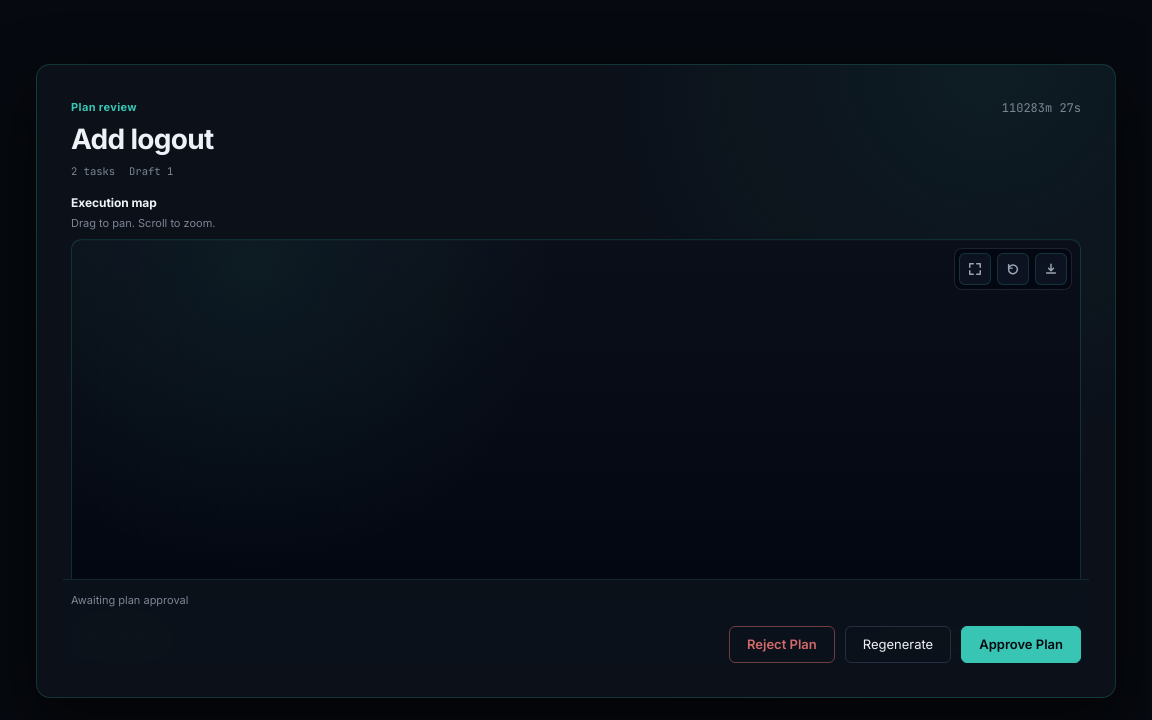
Scenario: MissionPlanPreview › Regenerate reveals the hint textarea + two regenerate buttons + Cancel
The image size is (1152, 720).
Click the button "Regenerate": click(898, 644) x1=845 y1=626 x2=951 y2=663
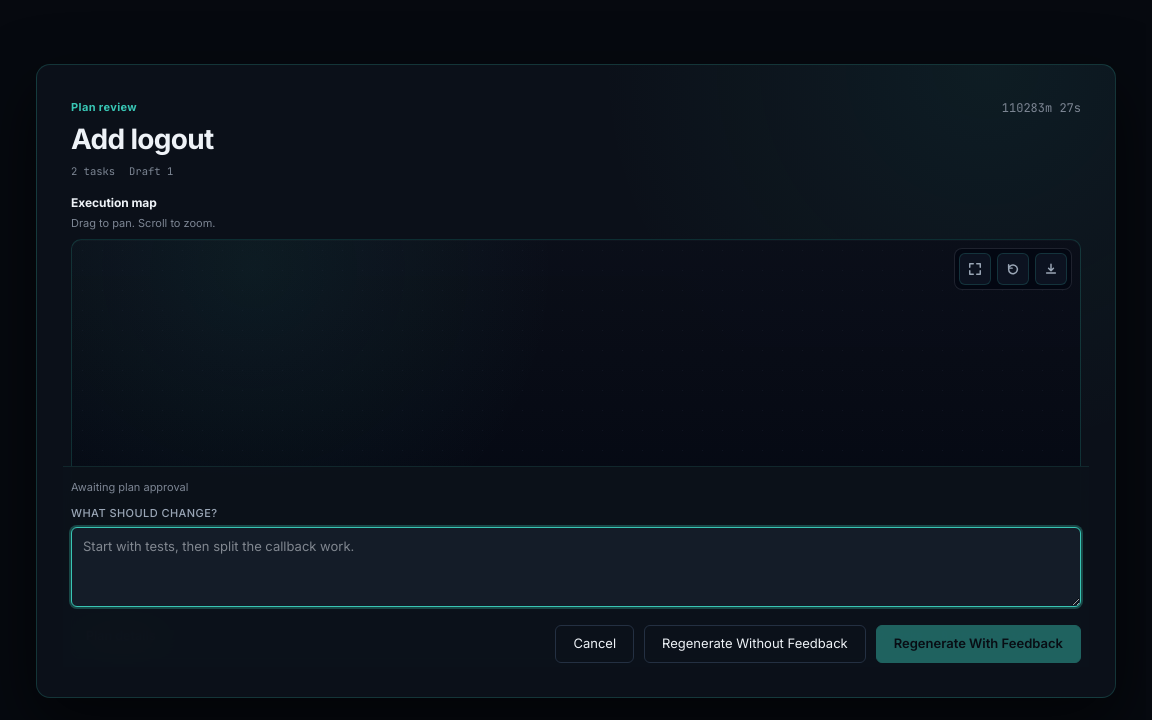
Expected: the text box with placeholder "Start with tests, then split the callback work." is shown, x1=71 y1=528 x2=1081 y2=608
Expected: the button "Regenerate Without Feedback" is shown, x1=644 y1=626 x2=866 y2=663
Expected: the button "Regenerate With Feedback" is shown, x1=876 y1=626 x2=1081 y2=663
